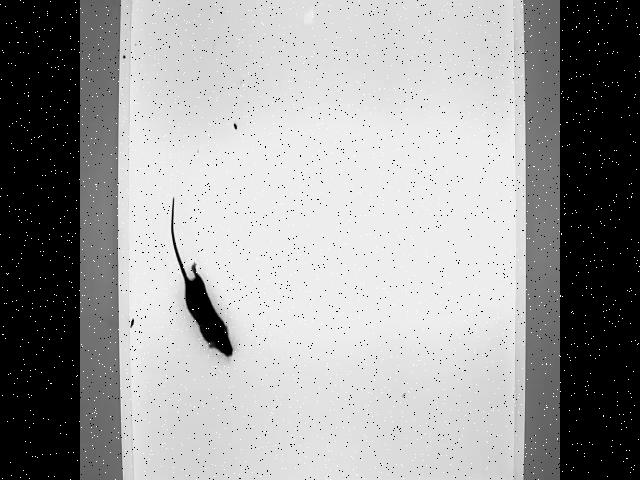Tikus: (164, 190, 238, 354)
